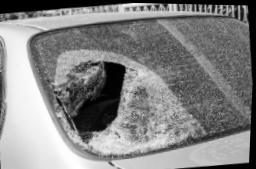Windshield: (30, 15, 253, 153)
